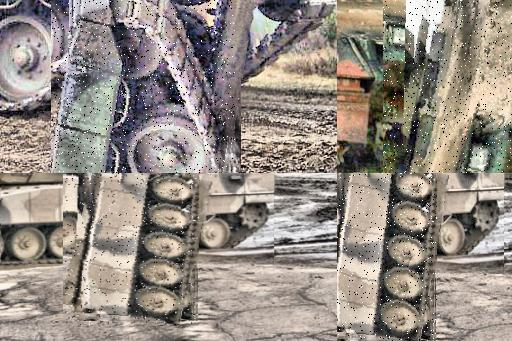tanks: (52, 1, 228, 174), (394, 1, 512, 174), (65, 174, 199, 326), (338, 174, 437, 341)
